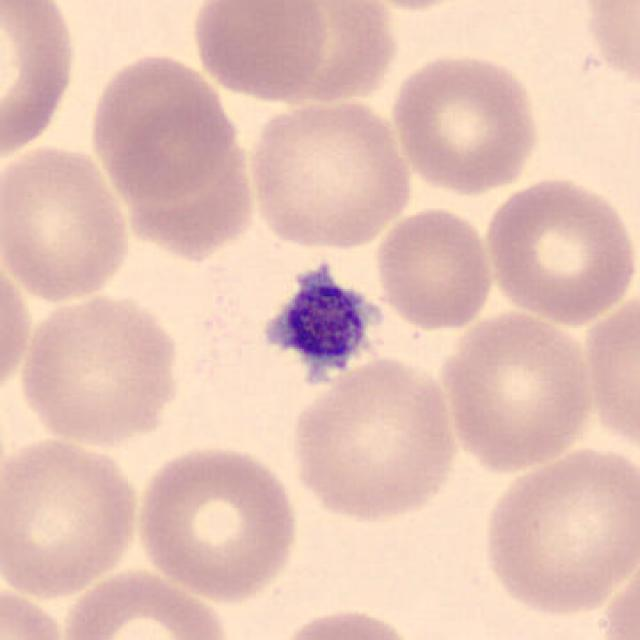Platelets: (252, 254, 390, 395)
RBC: (284, 353, 462, 527), (476, 440, 636, 620), (132, 439, 304, 605), (14, 289, 187, 450), (242, 95, 418, 252), (437, 307, 599, 474), (478, 171, 636, 326), (0, 432, 144, 601), (84, 48, 238, 202), (386, 49, 544, 196), (0, 139, 137, 305), (370, 205, 498, 332), (186, 0, 332, 104), (0, 0, 82, 167), (55, 566, 237, 640), (580, 284, 638, 458), (576, 0, 638, 97), (266, 604, 423, 640), (0, 252, 36, 406), (0, 580, 69, 640), (595, 555, 640, 639), (343, 0, 489, 14)
